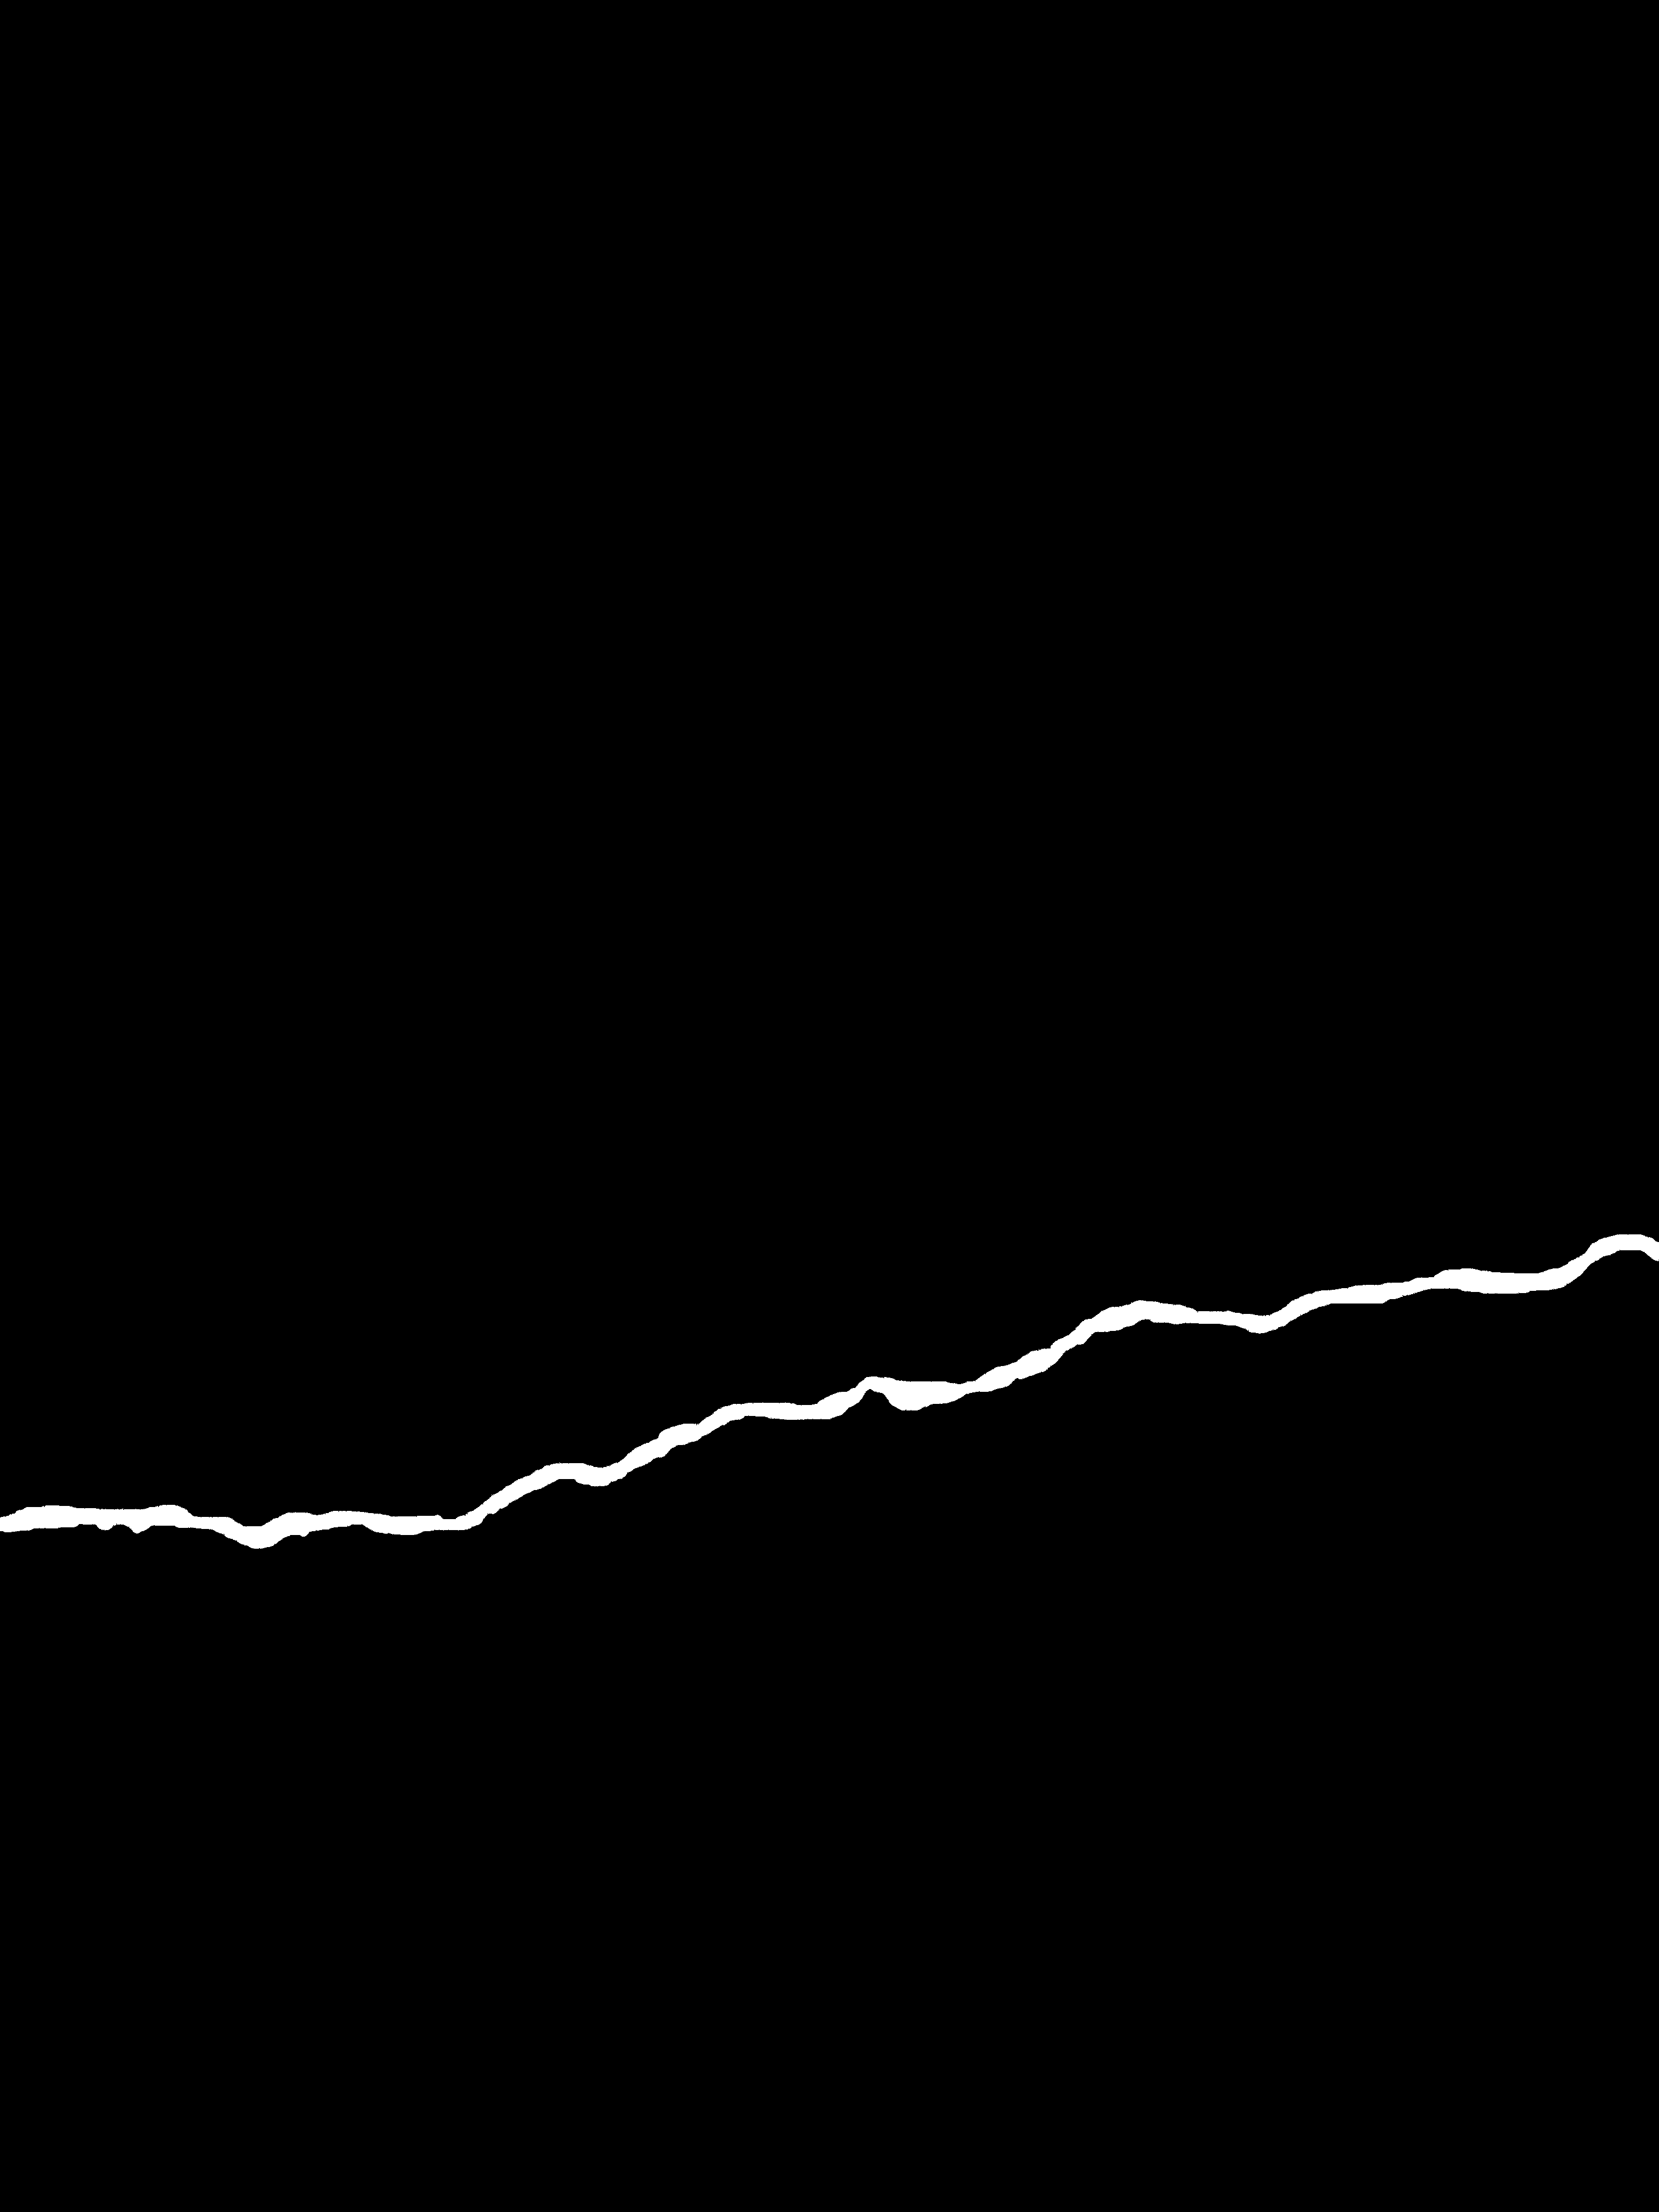Crack: (0, 1207, 1659, 1569)
